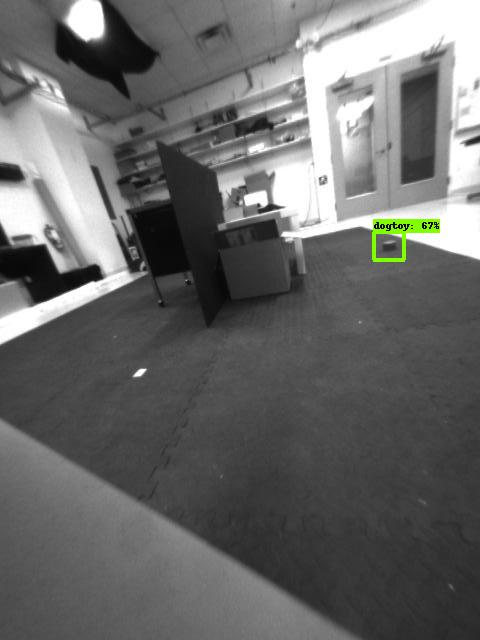dogtoy: (371, 234, 405, 267)
